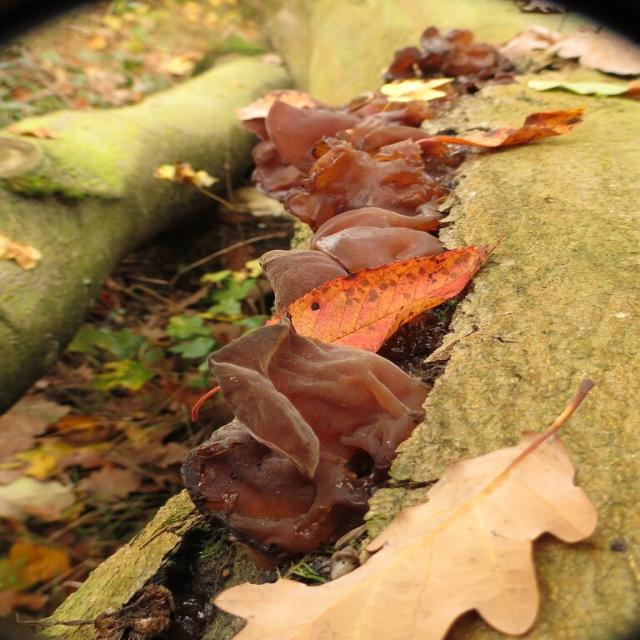Matang: (196, 20, 564, 555)
